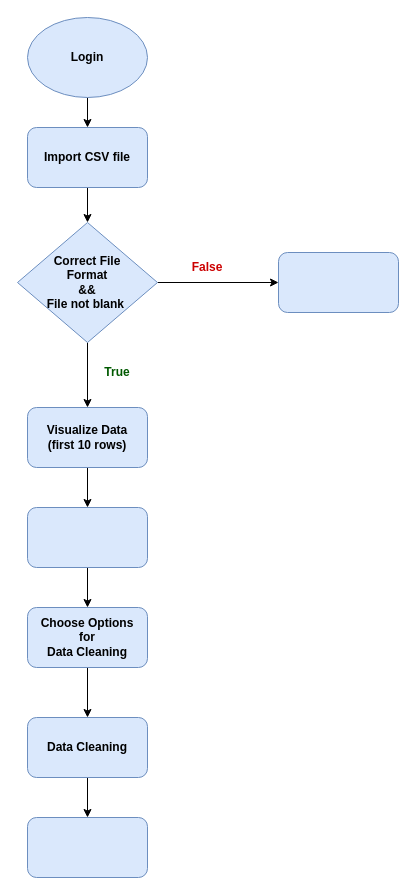
This 416x895 diagram has some shape labels left out. Each missing label, with the centre of its shape:
Data Profiling: the point at 87,537
Error Message: Incorrect file format/ File cannot be blank: the point at 338,282
Export Processed Data: the point at 87,847
